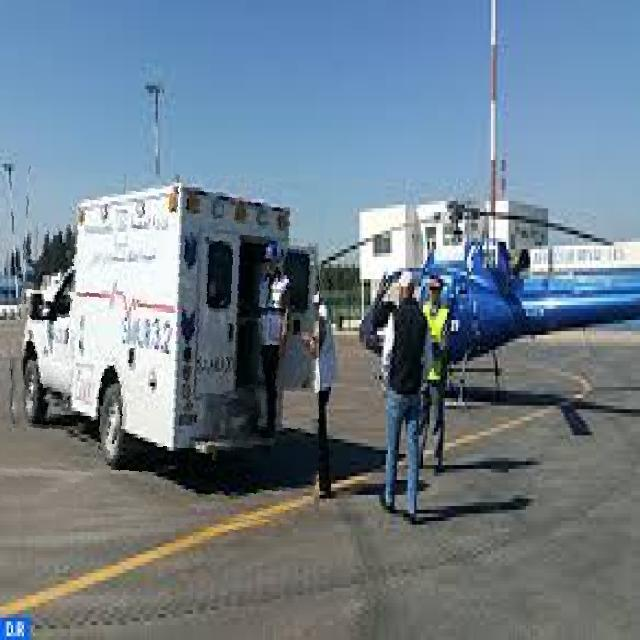ambulance: (0, 174, 319, 531)
